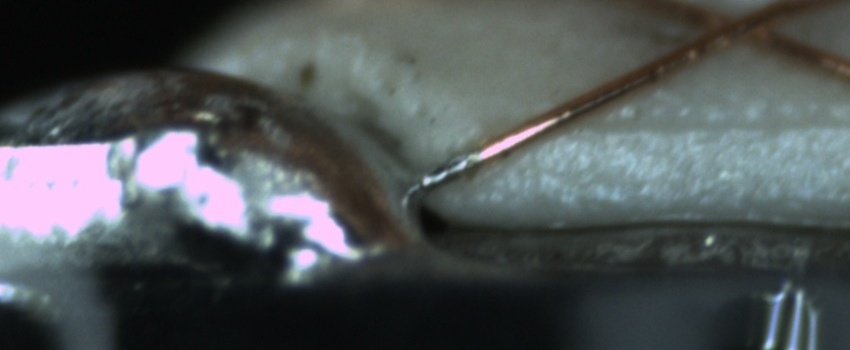CL: (670, 1, 803, 58)
DL: (563, 96, 849, 158)
TS: (416, 149, 481, 194)
